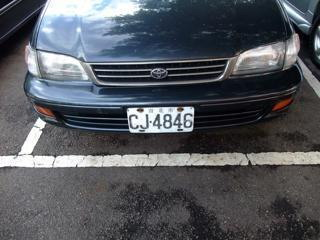plate: (124, 104, 198, 134)
